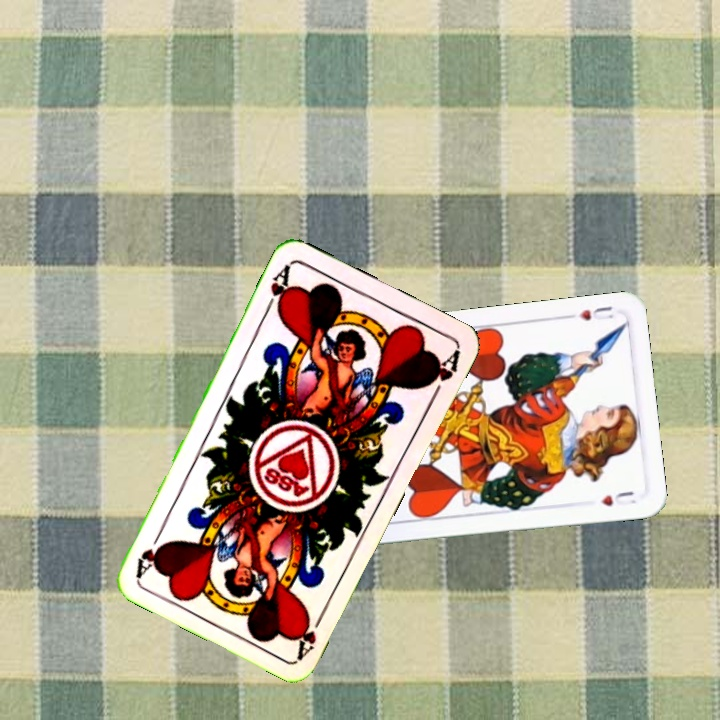HA: (291, 604, 329, 660), (261, 260, 295, 318)
HU: (575, 302, 616, 323)
